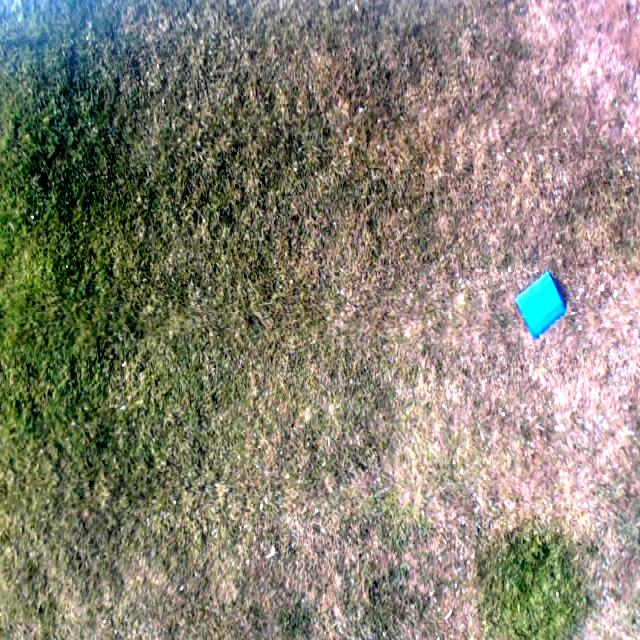blue_square: (515, 273, 566, 337)
